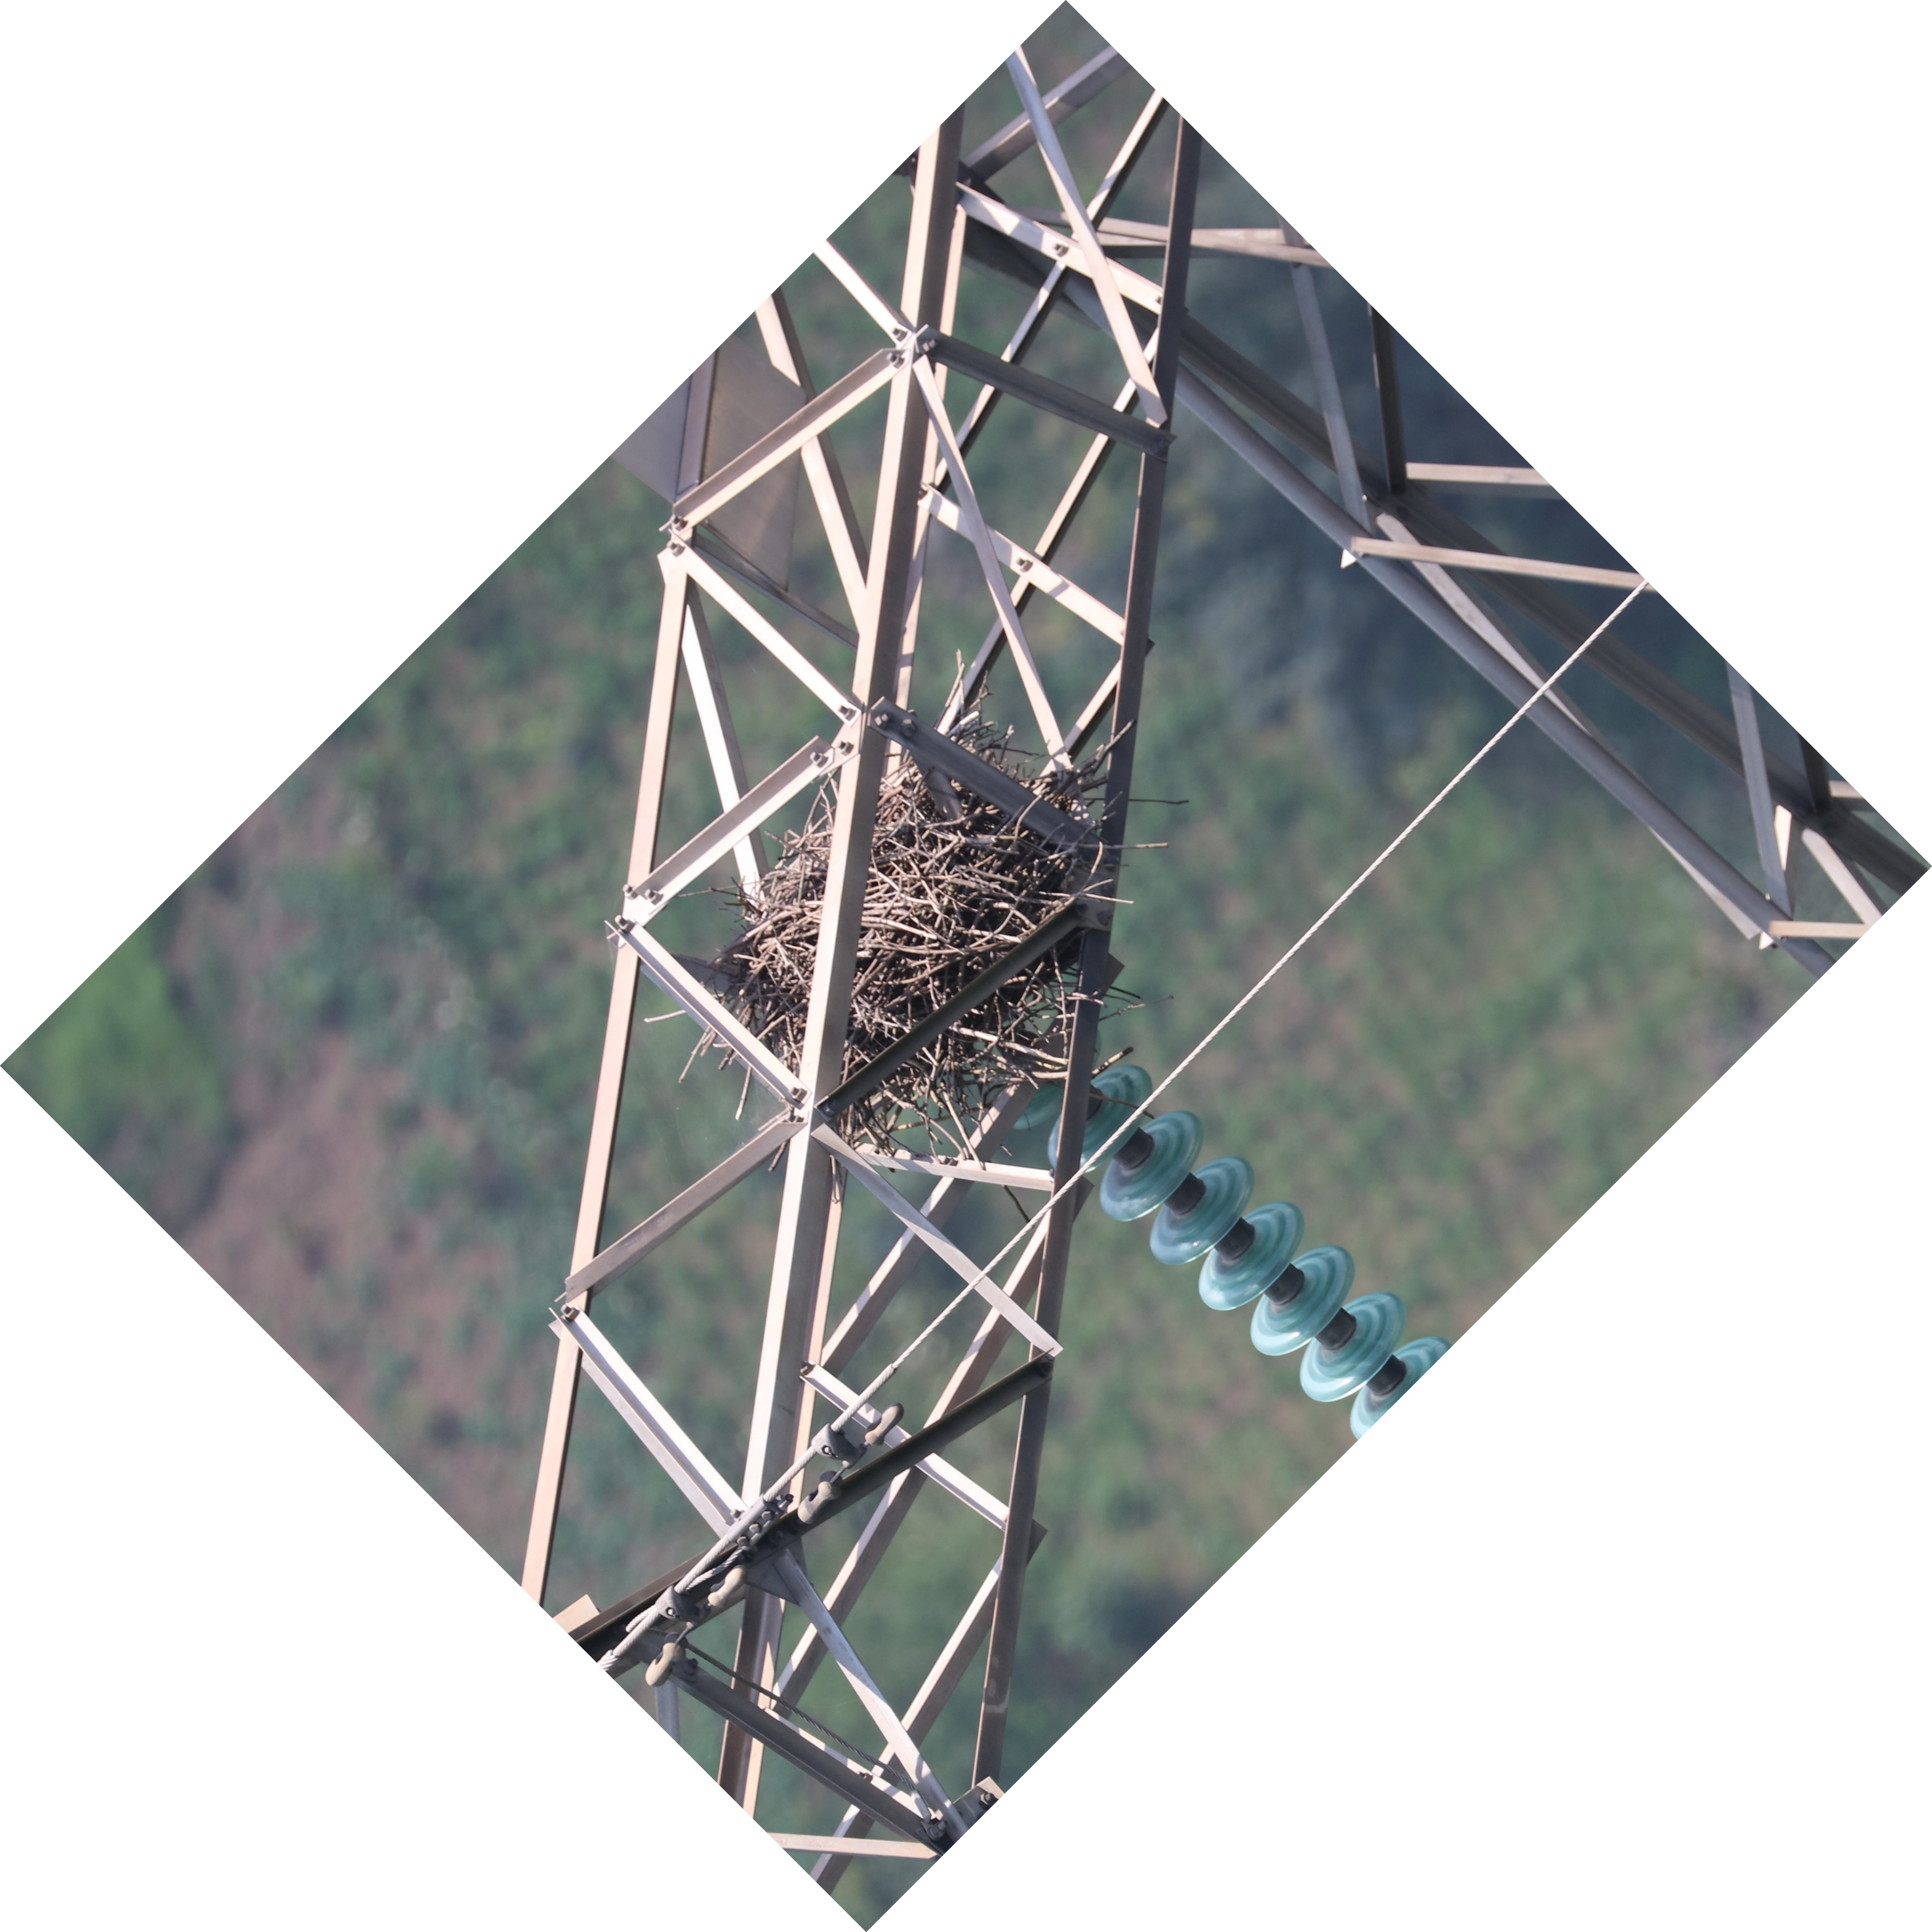niaowo: (674, 713, 1122, 1132)
